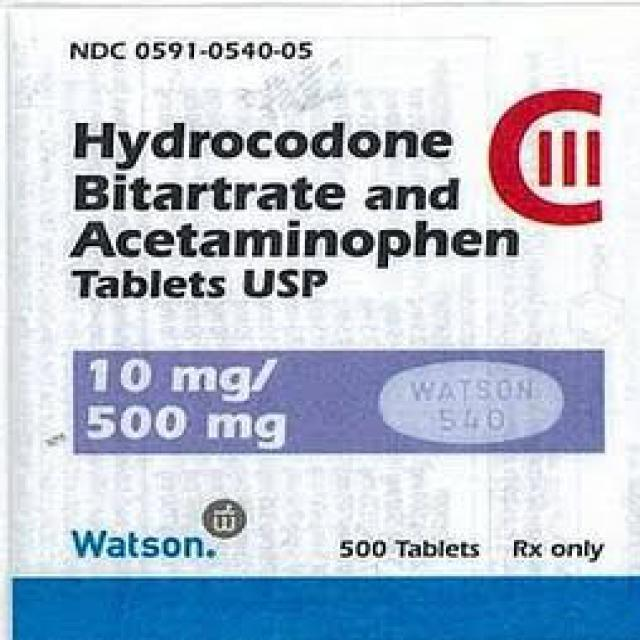drug-name: (406, 370, 537, 433)
